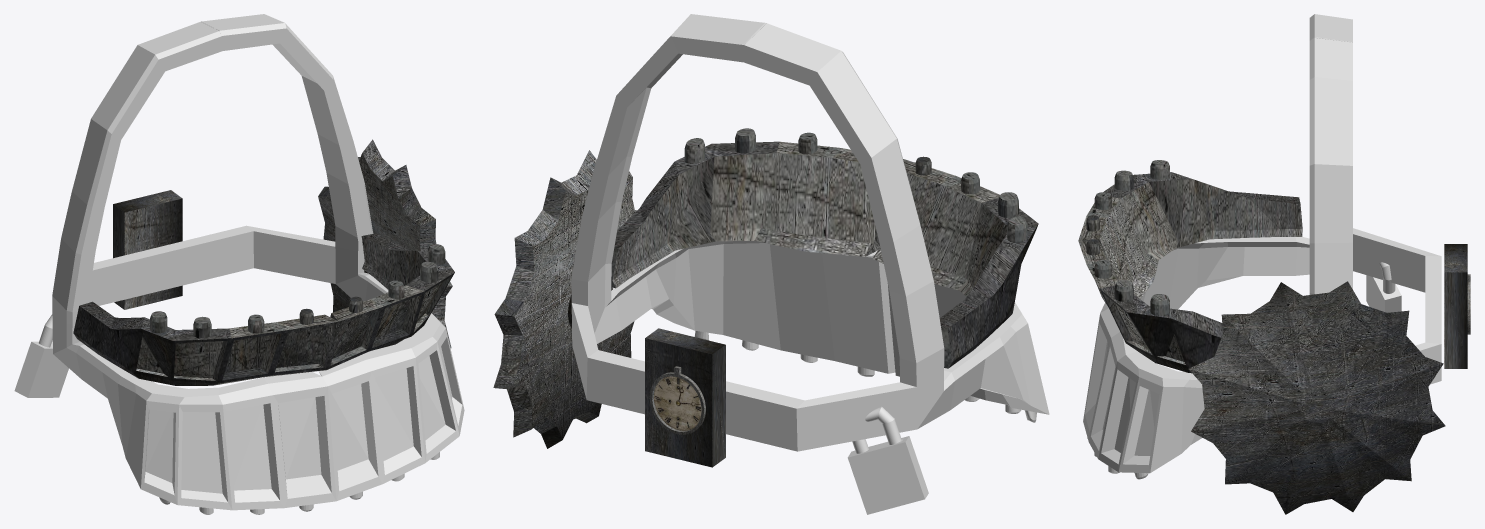
Rendered from SawTrap3.fbx.
The picture shows the model from 3 angles, left to right: view 1: azimuth 30°, elevation 25°; view 2: azimuth 150°, elevation 25°; view 3: azimuth 270°, elevation 25°; orthographic projection. The views are drawn at different scales.
Visible parts, largest first — view 1: Cercle.002, Cercle, Cercle.001, Cube, Cube.002; view 2: Cercle.002, Cercle, Cercle.001, Cube, Cube.002, Cube.001; view 3: Cercle.001, Cercle.002, Cercle, Cube, Cube.002.
Part boxes in pixels (x1,y1,x2,y2): Cercle.002: (52, 14, 464, 514); Cercle: (73, 233, 454, 385); Cercle.001: (318, 139, 452, 350); Cube: (113, 190, 182, 309); Cube.002: (14, 314, 68, 397); Cercle.002: (571, 14, 1049, 451); Cercle: (611, 128, 1038, 368); Cercle.001: (493, 150, 636, 448); Cube: (645, 328, 725, 467); Cube.002: (847, 406, 928, 514); Cube.001: (653, 376, 701, 430); Cercle.001: (1188, 281, 1445, 514); Cercle.002: (1083, 14, 1441, 479); Cercle: (1078, 160, 1302, 373); Cube: (1444, 244, 1470, 368); Cube.002: (1366, 262, 1401, 312).
Bounding box in the file's own units: 142 × 151 × 135.
5 materials, 4 textured.
